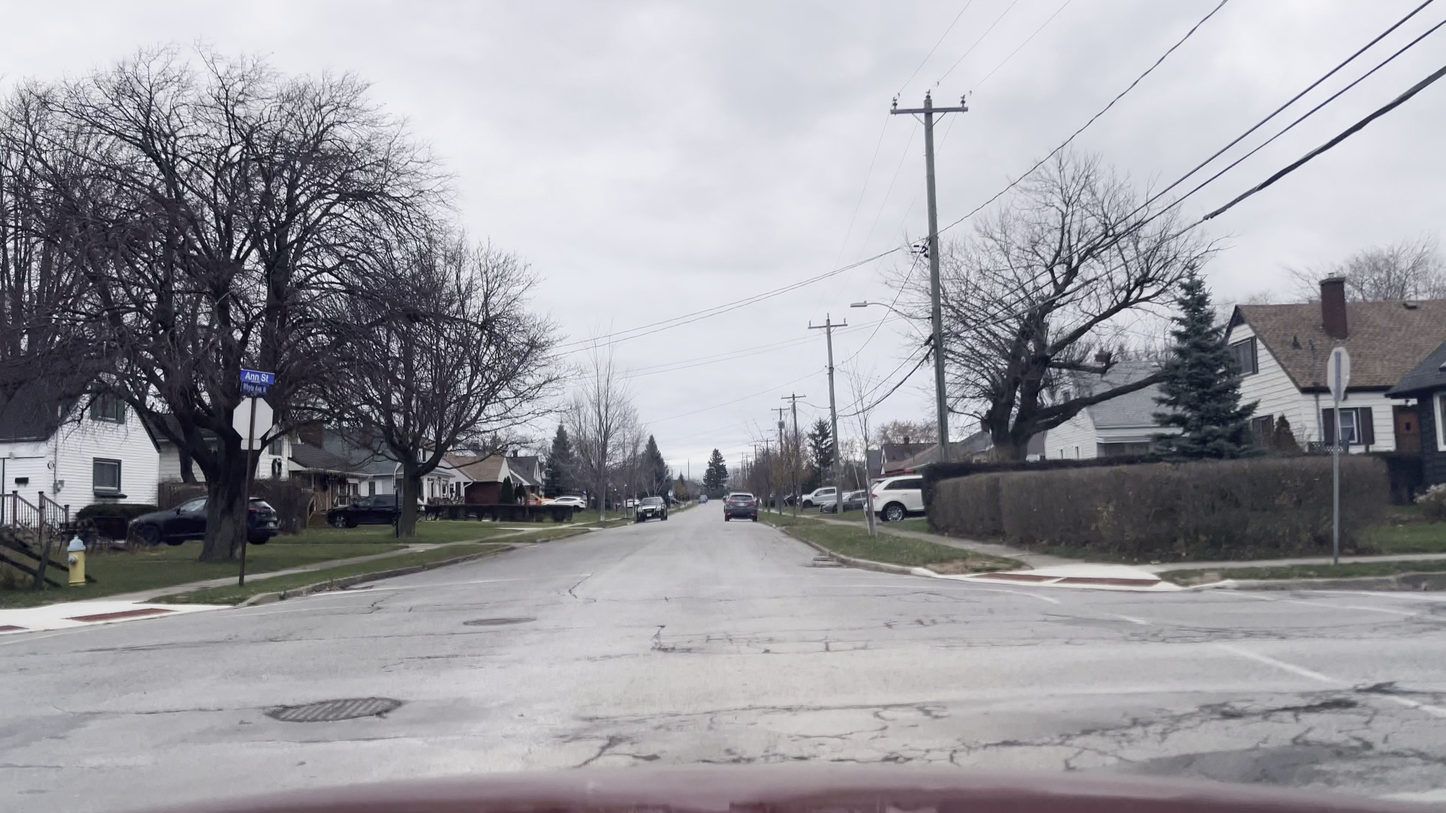cracks: (1204, 666, 1400, 734), (983, 718, 1231, 764), (555, 713, 699, 768), (643, 625, 693, 663)
